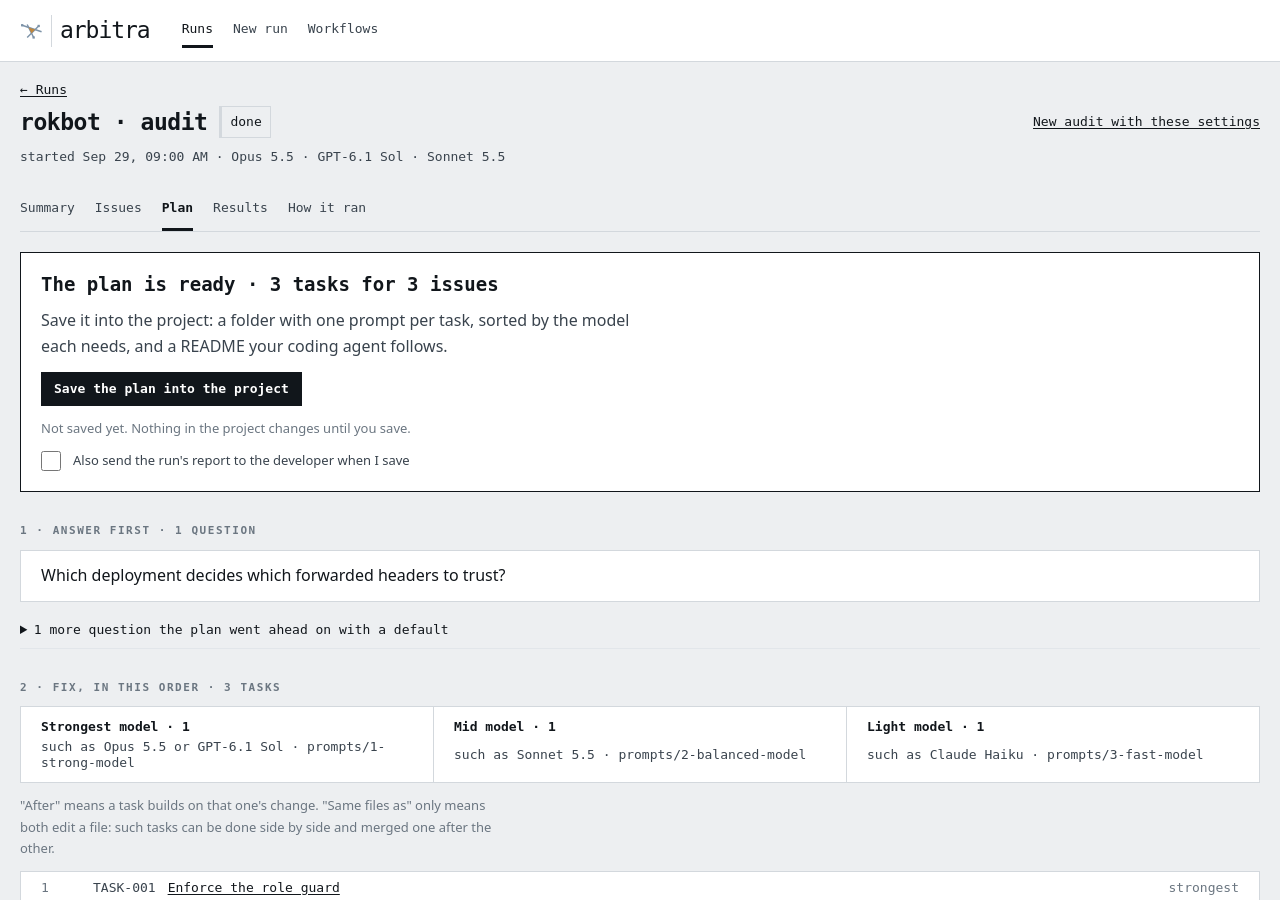
Scenario: the Plan tab › saves from the Plan tab once, then gives the folder, the next step and what the premise check did not find
Step 1. Click the button "Save the plan into the project" → (171, 389), box [41,372,302,406]
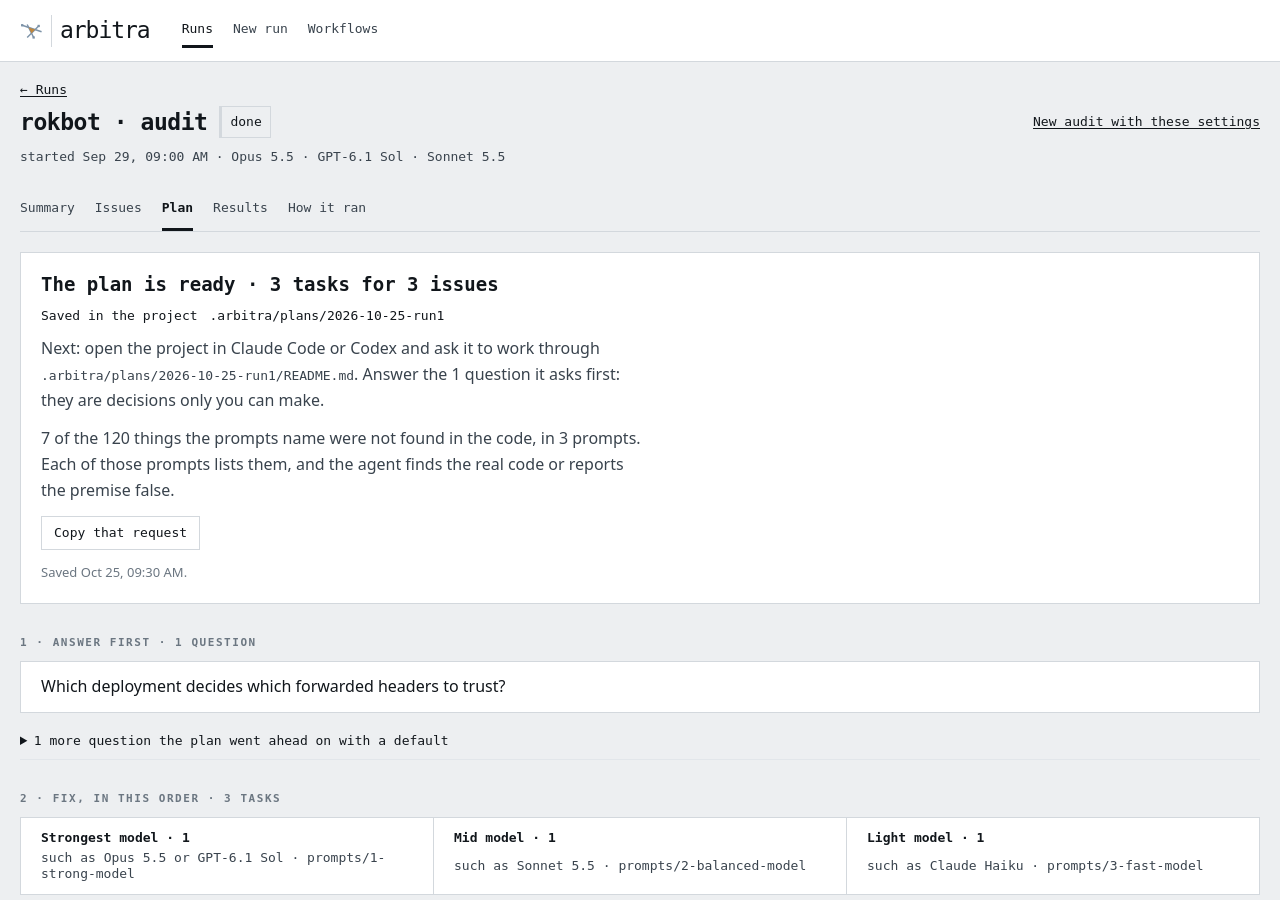
Expected: the text ".arbitra/plans/2026-10-25-run1" is shown, [210,308,444,324]
Expected: the text "Next: open the project in Claude Code or Codex" is shown, [41,337,600,359]
Expected: the text "7 of the 120 things the prompts name were not found in the code, in 3 prompts. Each of those prompts lists them, and the" is shown, [41,427,641,501]
